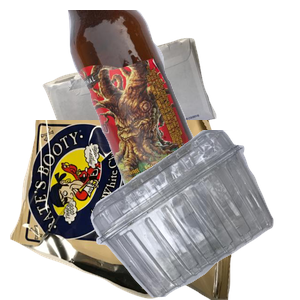glass: (65, 10, 300, 190)
paper: (40, 35, 249, 187)
plastic: (88, 130, 300, 300)
trash: (10, 120, 235, 300)
